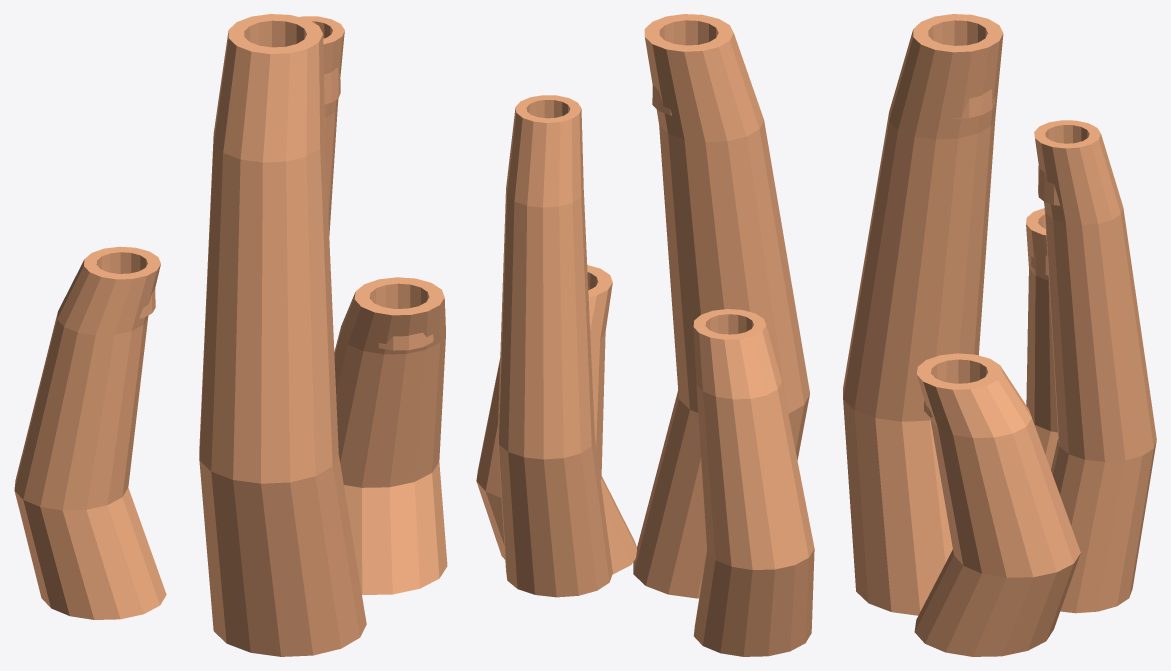
Rendered from plantas1_COLORES_BASE.fbx.
3 views of the same model, side by side, from view 1: azimuth 30°, elevation 25°; view 2: azimuth 150°, elevation 25°; view 3: azimuth 270°, elevation 25° (orthographic). The views are drawn at different scales.
Parts seen in each view (by area): view 1: Cilindro.002; view 2: Cilindro.002; view 3: Cilindro.002.
Boxes of the visible parts, x1,y1,x2,y2 form: Cilindro.002: [14, 14, 447, 656]; Cilindro.002: [476, 14, 814, 656]; Cilindro.002: [843, 14, 1156, 656].
Size of the model in its own units: 264 by 388 by 200.
